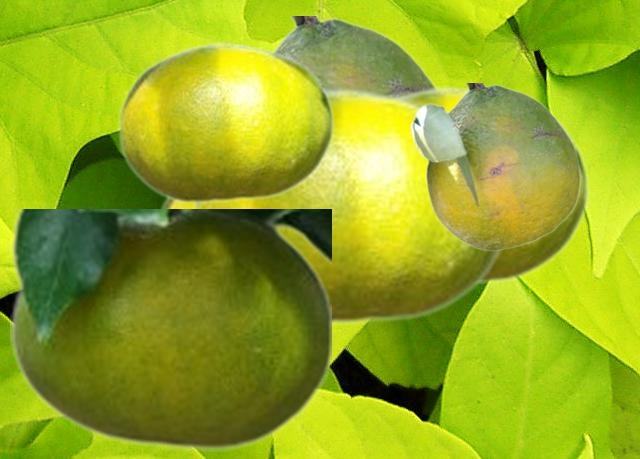dalandan: (10, 209, 330, 450), (191, 87, 506, 327), (395, 85, 588, 288), (117, 41, 333, 204), (409, 83, 580, 250), (247, 16, 435, 93)
